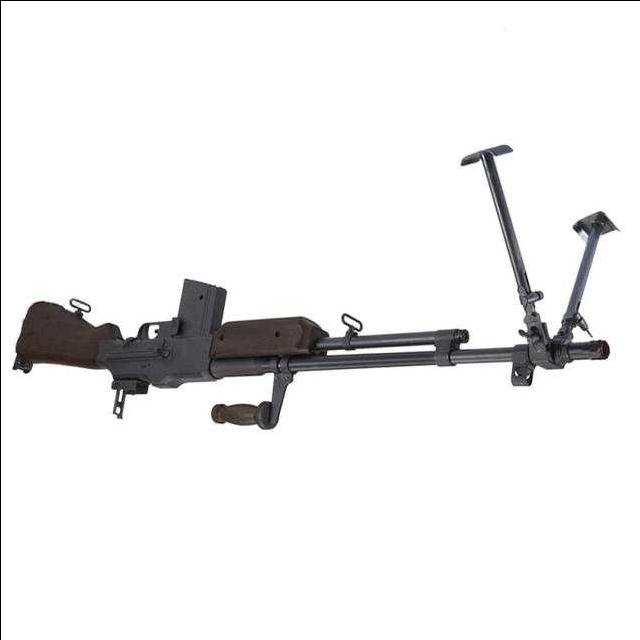heavyweapon: (2, 268, 612, 479)
